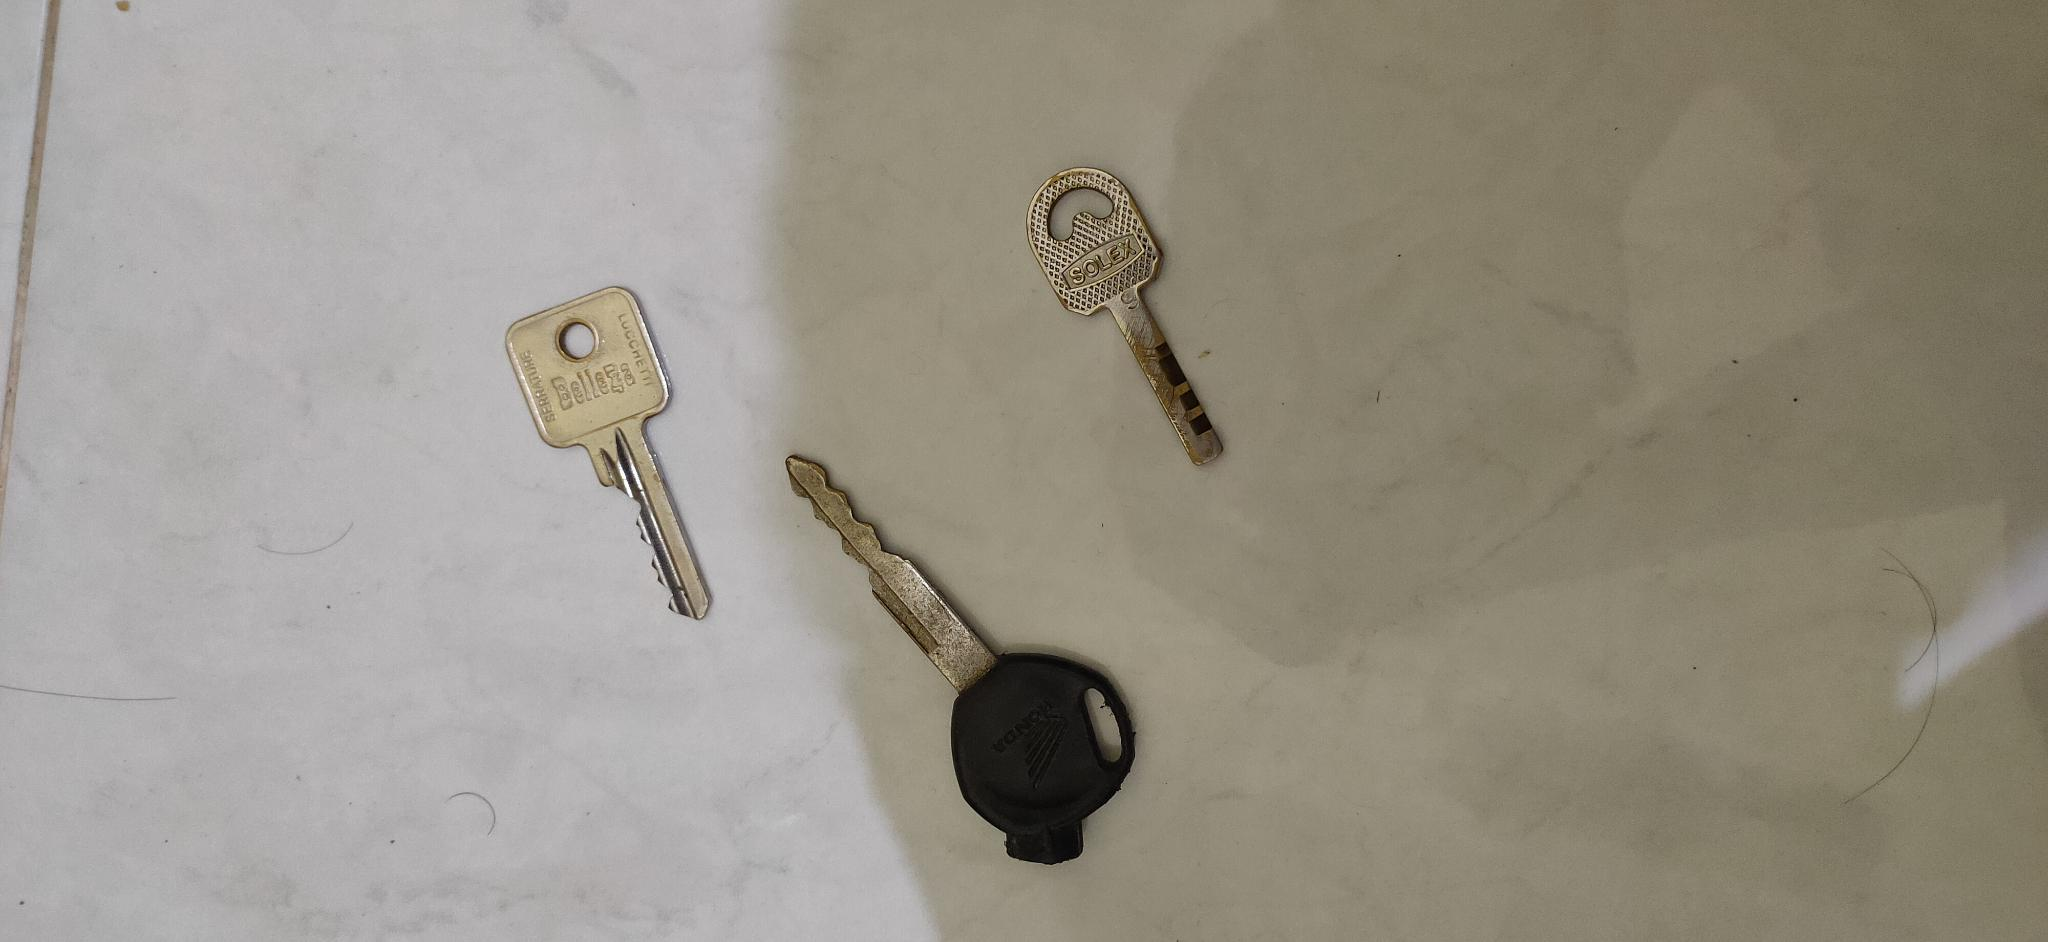keys: (777, 446, 1143, 871), (488, 277, 720, 631), (1017, 163, 1236, 478)
